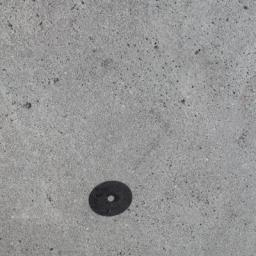FOD: (87, 180, 136, 219)
